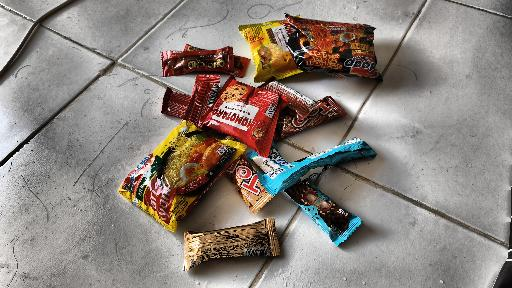chocho: (159, 42, 251, 81)
dilan: (252, 145, 383, 249)
indomie: (118, 122, 241, 233)
mie sedap: (282, 15, 384, 78)
momotaro: (203, 75, 282, 155), (235, 15, 307, 84)
top: (176, 222, 287, 270)
